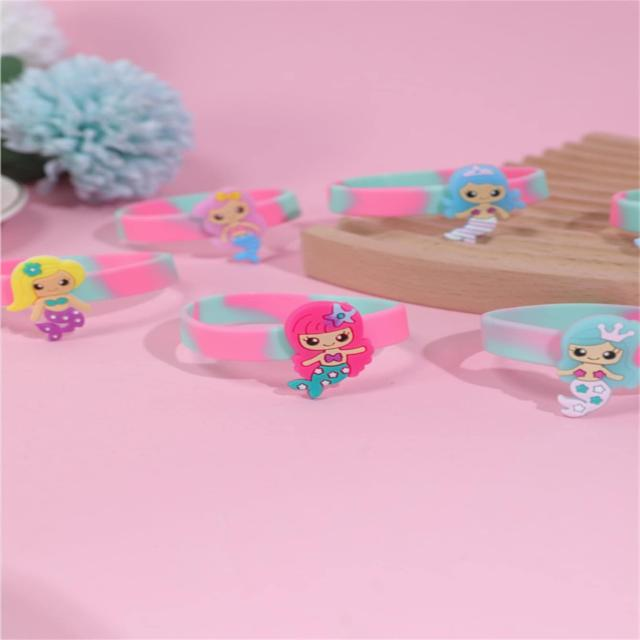bracelet: (153, 275, 434, 444)
